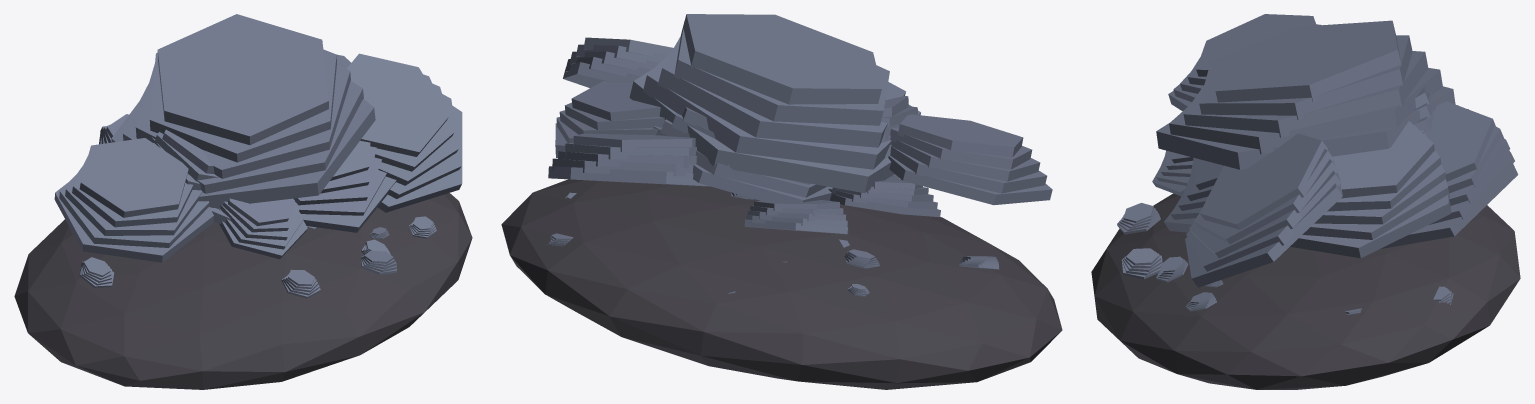
The model's file is molybdenite.glb.
3 renders of one model, left to right at view 1: azimuth 30°, elevation 25°; view 2: azimuth 150°, elevation 25°; view 3: azimuth 270°, elevation 25°, orthographic. The views are drawn at different scales.
Parts seen in each view (by area): view 1: Molybdenite; view 2: Molybdenite; view 3: Molybdenite.
Part boxes in pixels (x1=…): Molybdenite: x1=14, y1=14, x2=472, y2=389; Molybdenite: x1=501, y1=14, x2=1062, y2=389; Molybdenite: x1=1091, y1=14, x2=1520, y2=389.
Size of the model in its own units: 3.96 by 2.39 by 3.03.
